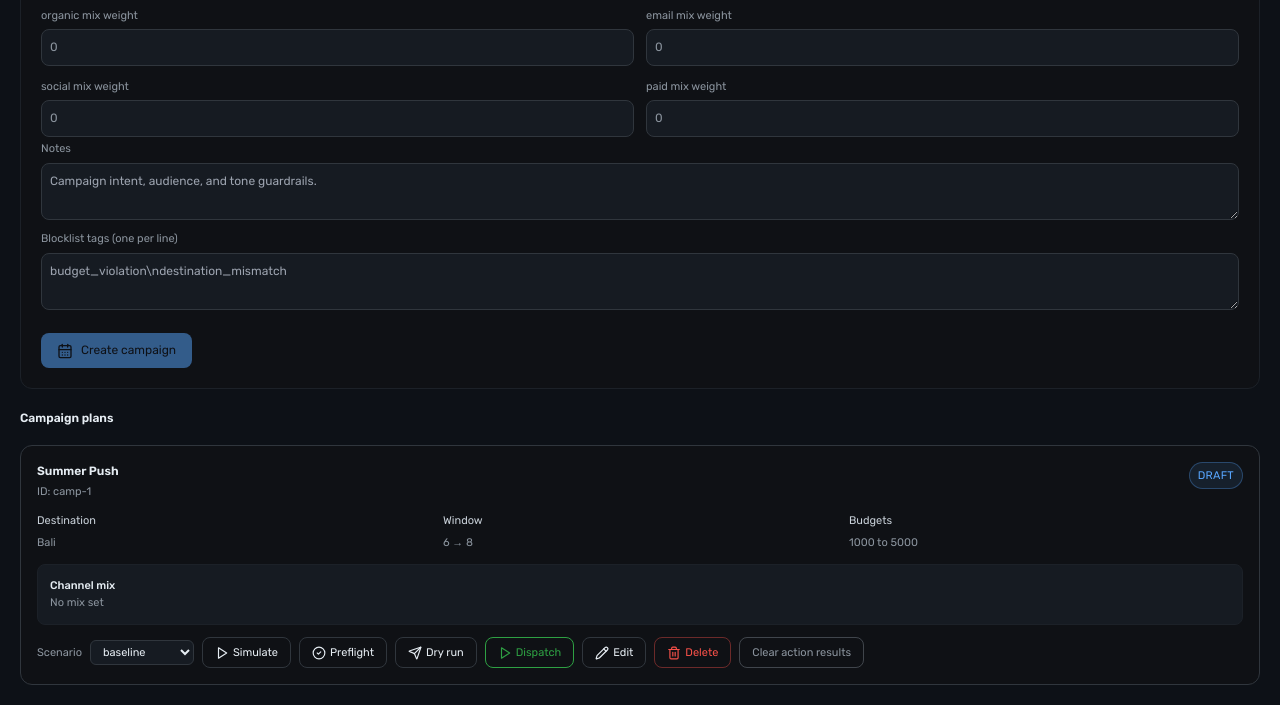
Test: SeasonsPageClient › keeps the selected scenario visible in the dry-run result
(page scrolled)
Select "conservative" in the dropdown labelled "Scenario" at (142, 652), box [90, 640, 194, 665]
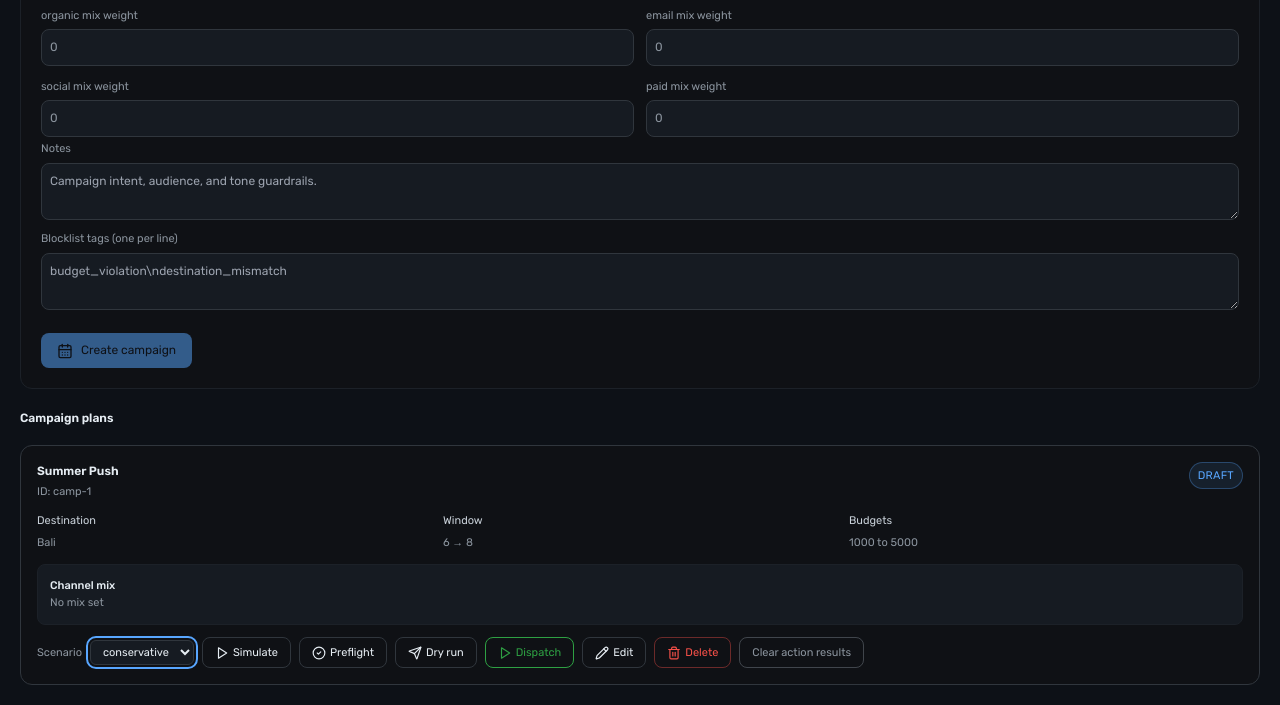
Click the button "Dry run" at (436, 652), box [395, 637, 477, 668]
(page scrolled)
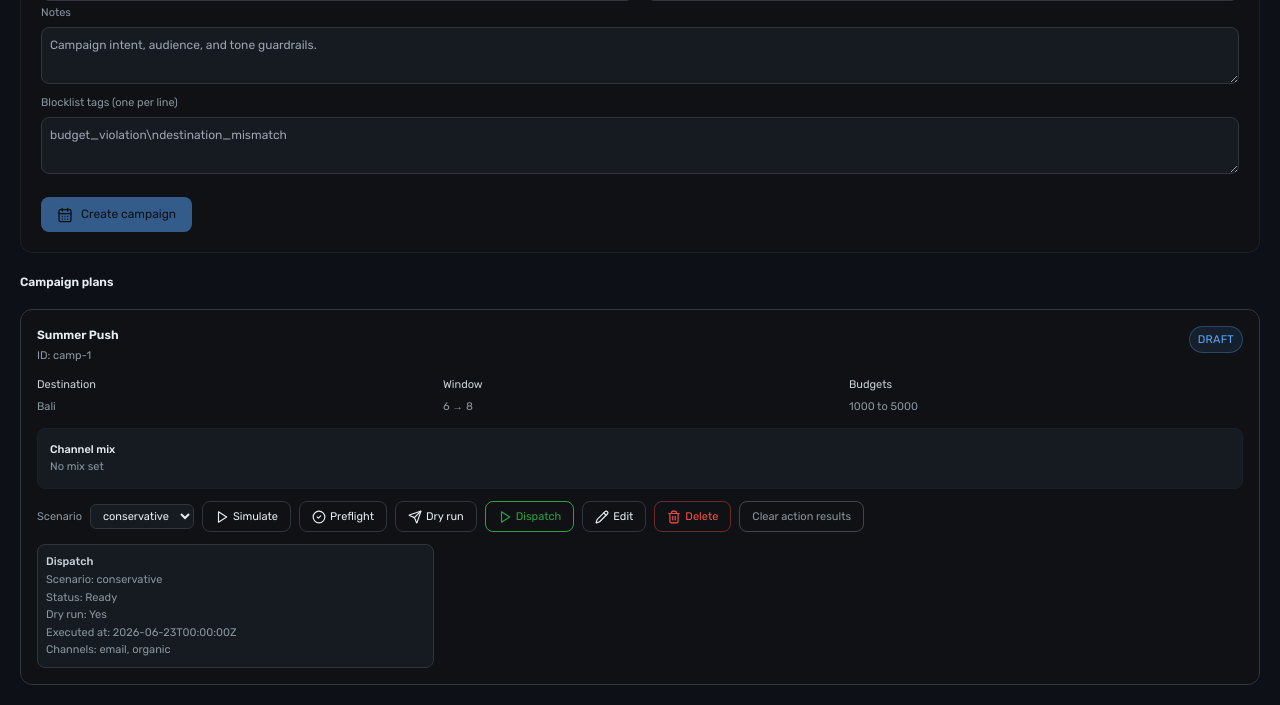
Now the text "Scenario: conservative" is shown, box [46, 573, 162, 586]
Now the text "Dry run: Yes" is shown, box [46, 608, 107, 621]
